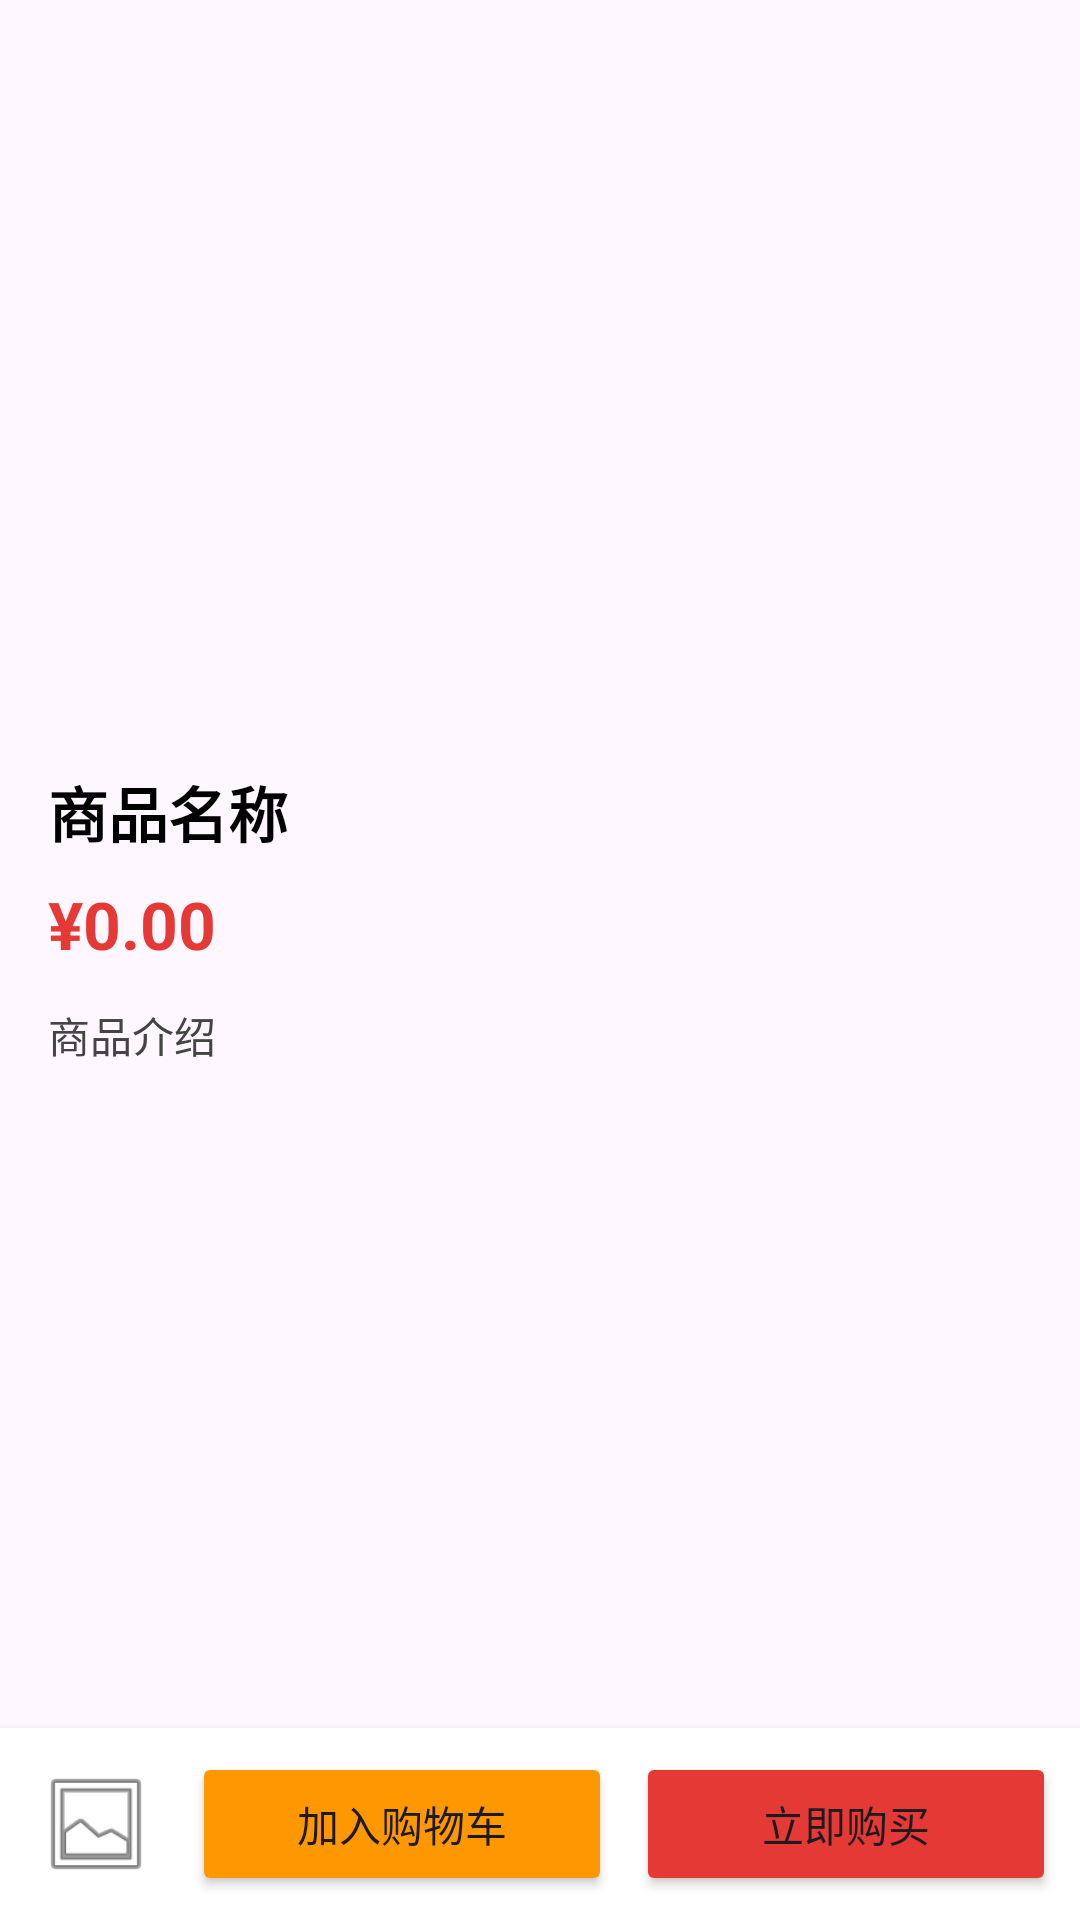

Screen size 1080px×1920px. Icon name, then its center in pixels as [x,y]:
gallery: [96,1824]
